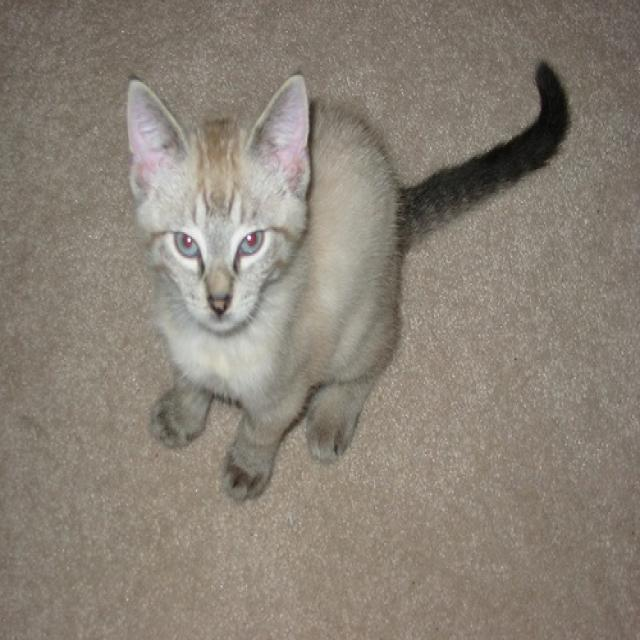cat: (118, 38, 572, 505)
